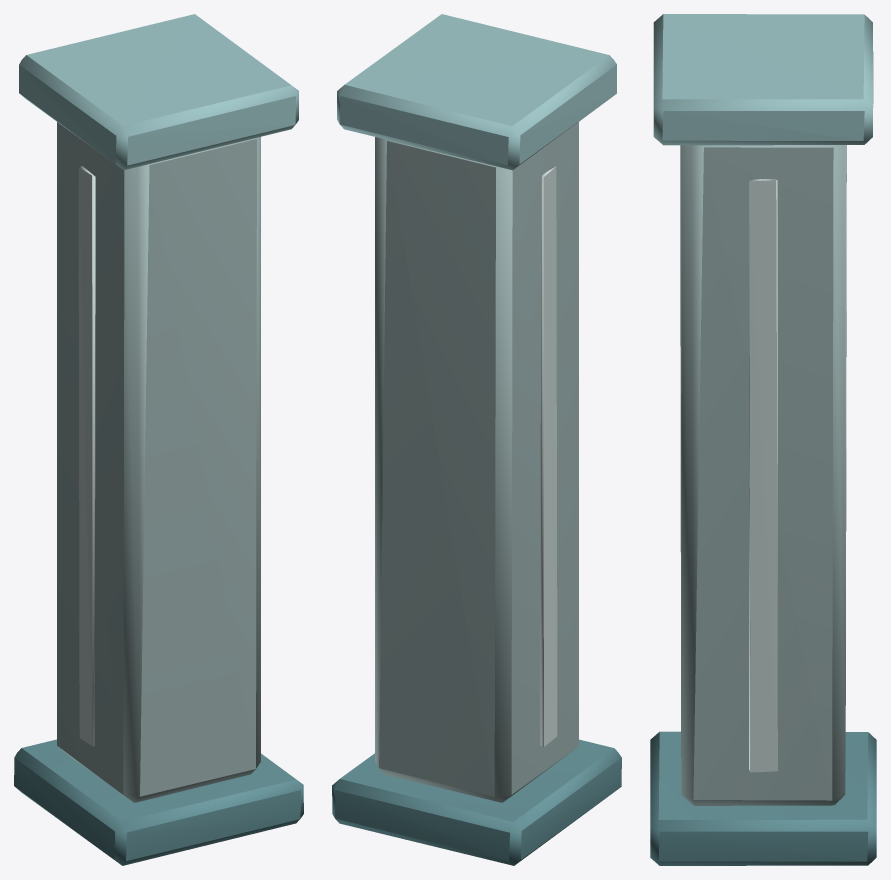
File: pillar.lod.glb
The picture shows the model from 3 angles, left to right: view 1: azimuth 30°, elevation 25°; view 2: azimuth 150°, elevation 25°; view 3: azimuth 270°, elevation 25°; orthographic projection. The views are drawn at different scales.
Parts seen in each view (by area): view 1: pillar; view 2: pillar; view 3: pillar.
Part boxes in pixels (x1,y1,x2,y2): pillar: (14, 14, 303, 865); pillar: (332, 14, 621, 865); pillar: (650, 14, 876, 865).
Size of the model in its own units: 1.87 by 6.97 by 1.87.
